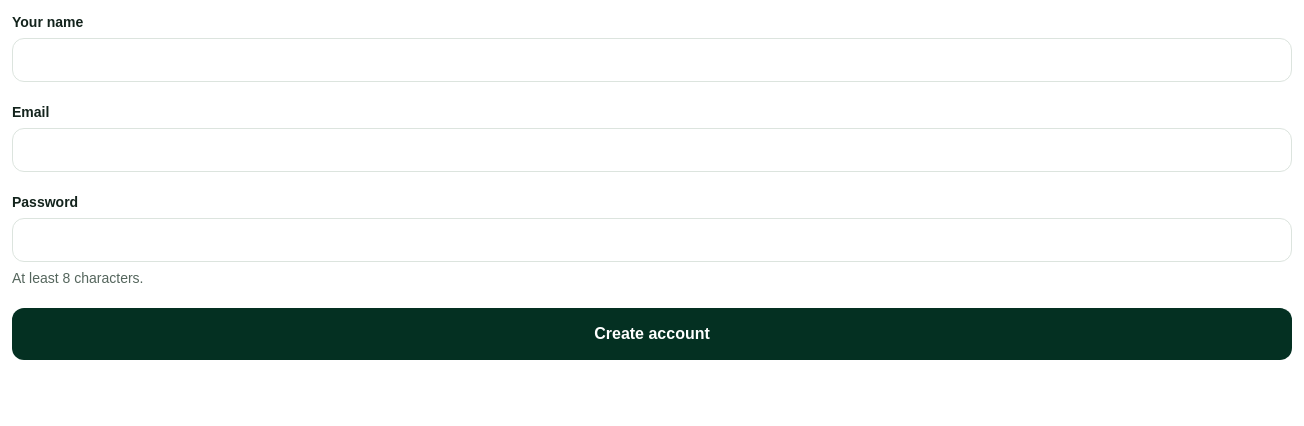
Test case: AuthForm creating an account › says when the email already has an account
Type "Asha Rao" into the field labelled "Your name".
click(652, 60); type("Asha Rao")  # box [12,38,1292,82]
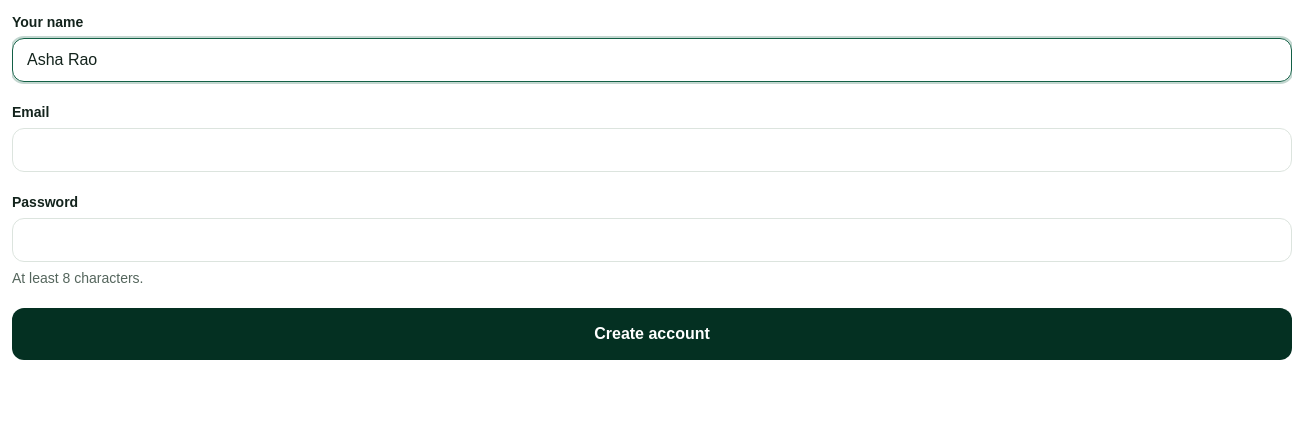
Type "asha@example.com" into the field labelled "Email".
click(652, 150); type("asha@example.com")  # box [12,128,1292,172]
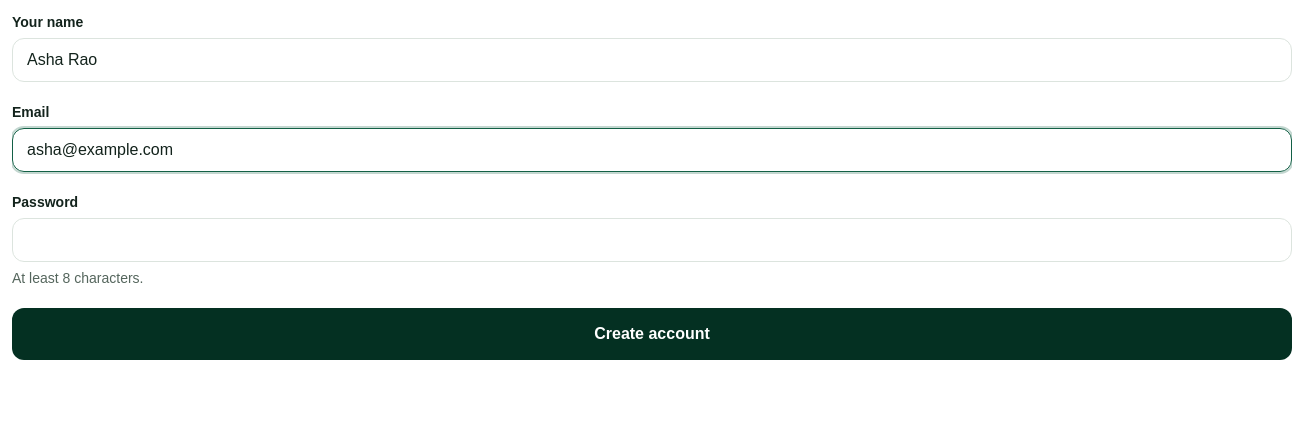
Type "correct-horse-9" into the password field labelled "Password".
click(652, 240); type("correct-horse-9")  # box [12,218,1292,262]
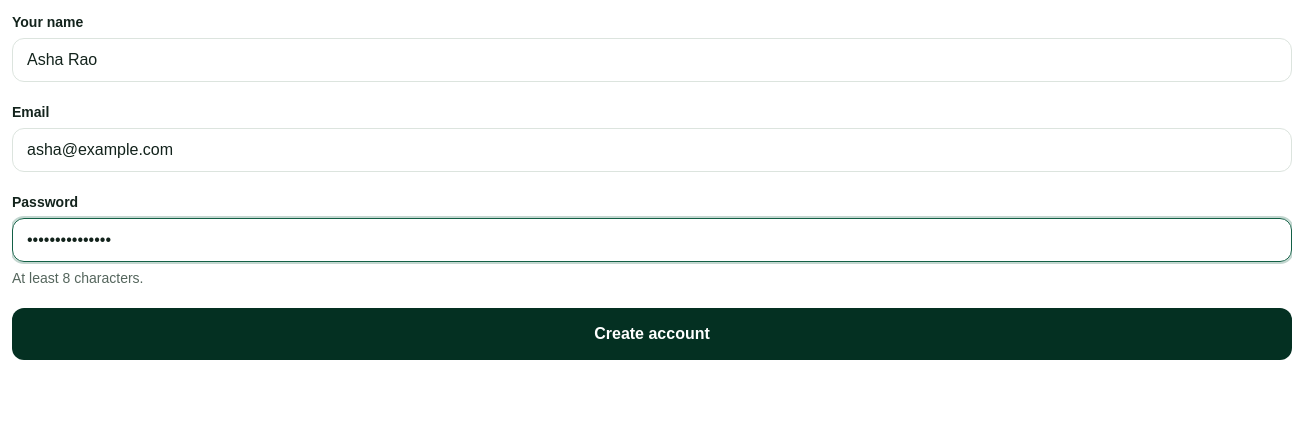
Click the button "Create account".
click(652, 334)  # box [12,308,1292,360]
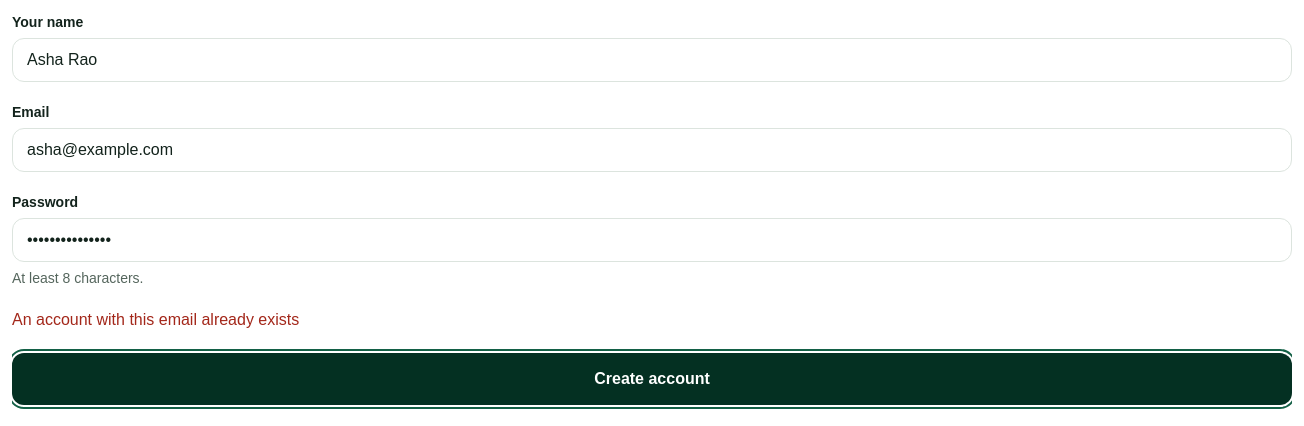
expect the message reads "An account with this email already exists": met, box [12,311,299,328]
